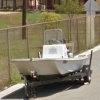Boat: (12, 32, 92, 93)
